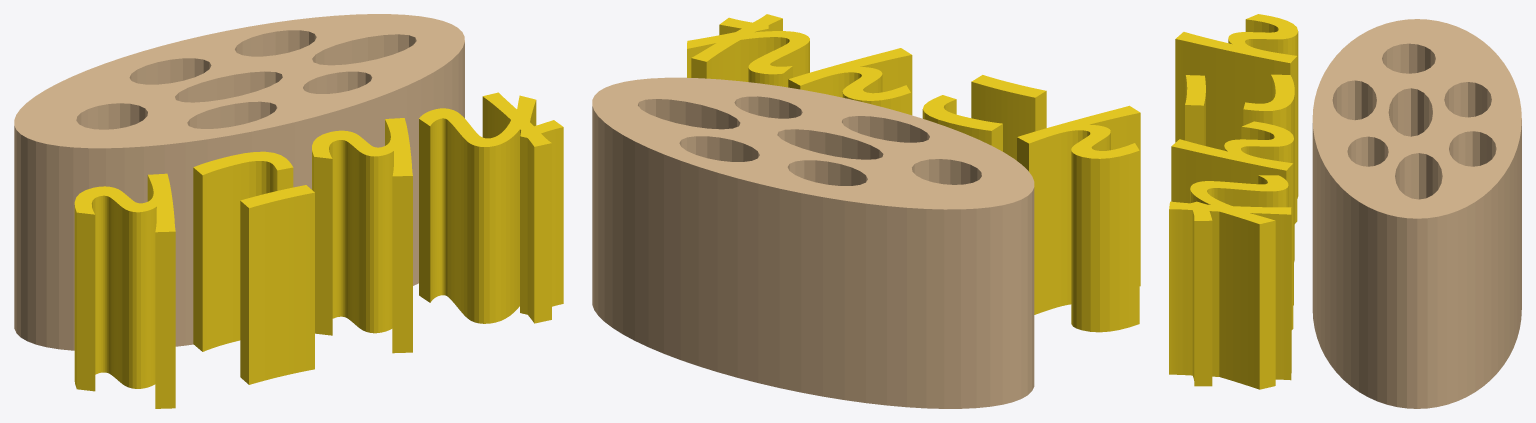
Rendered from tinker.obj.
3 renders of one model, left to right at view 1: azimuth 30°, elevation 25°; view 2: azimuth 150°, elevation 25°; view 3: azimuth 270°, elevation 25°, orthographic. The views are drawn at different scales.
Parts seen in each view (by area): view 1: group_0_16768282, group_0_14860437; view 2: group_0_14860437, group_0_16768282; view 3: group_0_14860437, group_0_16768282.
Boxes of the visible parts, box(x1,y1,x2,y2) form: group_0_16768282: box(74, 92, 563, 408); group_0_14860437: box(14, 14, 464, 350); group_0_14860437: box(592, 77, 1034, 408); group_0_16768282: box(687, 14, 1140, 332); group_0_14860437: box(1312, 19, 1521, 408); group_0_16768282: box(1169, 14, 1298, 389).
Bounding box in the file's own units: 30 × 12.5 × 21.
